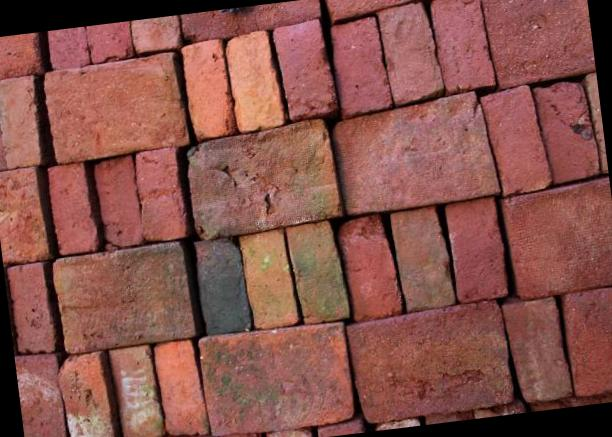brick: (334, 88, 502, 214), (346, 298, 514, 423), (184, 117, 342, 240), (198, 319, 355, 437), (52, 239, 196, 354), (44, 52, 188, 162), (501, 177, 612, 299), (482, 0, 597, 88), (480, 82, 552, 197), (502, 296, 572, 402), (391, 205, 456, 312), (534, 78, 599, 184), (339, 212, 402, 321), (286, 218, 350, 325), (378, 1, 444, 104), (272, 17, 337, 119), (446, 196, 508, 302), (330, 15, 392, 115), (226, 29, 284, 132), (240, 227, 298, 329), (430, 0, 495, 91), (194, 236, 252, 336), (181, 38, 235, 140), (562, 286, 612, 396), (154, 338, 208, 437), (134, 146, 188, 241), (57, 351, 116, 437), (110, 344, 164, 437), (0, 166, 50, 264), (48, 162, 99, 255), (94, 155, 144, 248), (15, 350, 68, 437), (7, 262, 56, 355), (0, 74, 43, 168)
